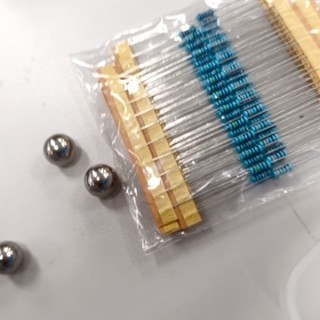ironball: (81, 152, 120, 213), (0, 219, 36, 284), (41, 130, 82, 177)
